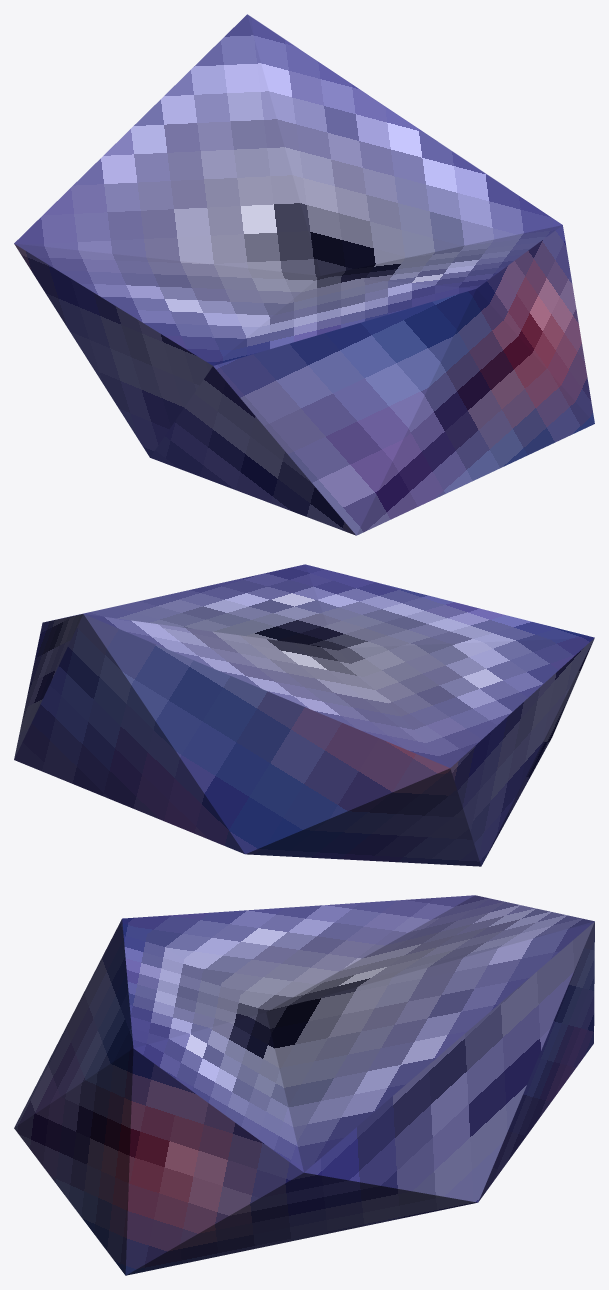
The model's file is rock6.obj.
The picture shows the model from 3 angles, top to bottom: view 1: azimuth 30°, elevation 25°; view 2: azimuth 150°, elevation 25°; view 3: azimuth 270°, elevation 25°; orthographic projection. The views are drawn at different scales.
Visible parts, largest first — view 1: Icosphere; view 2: Icosphere; view 3: Icosphere.
Part boxes in pixels (<box>): Icosphere: <box>14,14,594,535</box>; Icosphere: <box>14,564,594,866</box>; Icosphere: <box>14,895,594,1275</box>.
Size of the model in its own units: 0.9152 by 0.5305 by 0.9374.
Materials: 1 (1 with a texture image).
